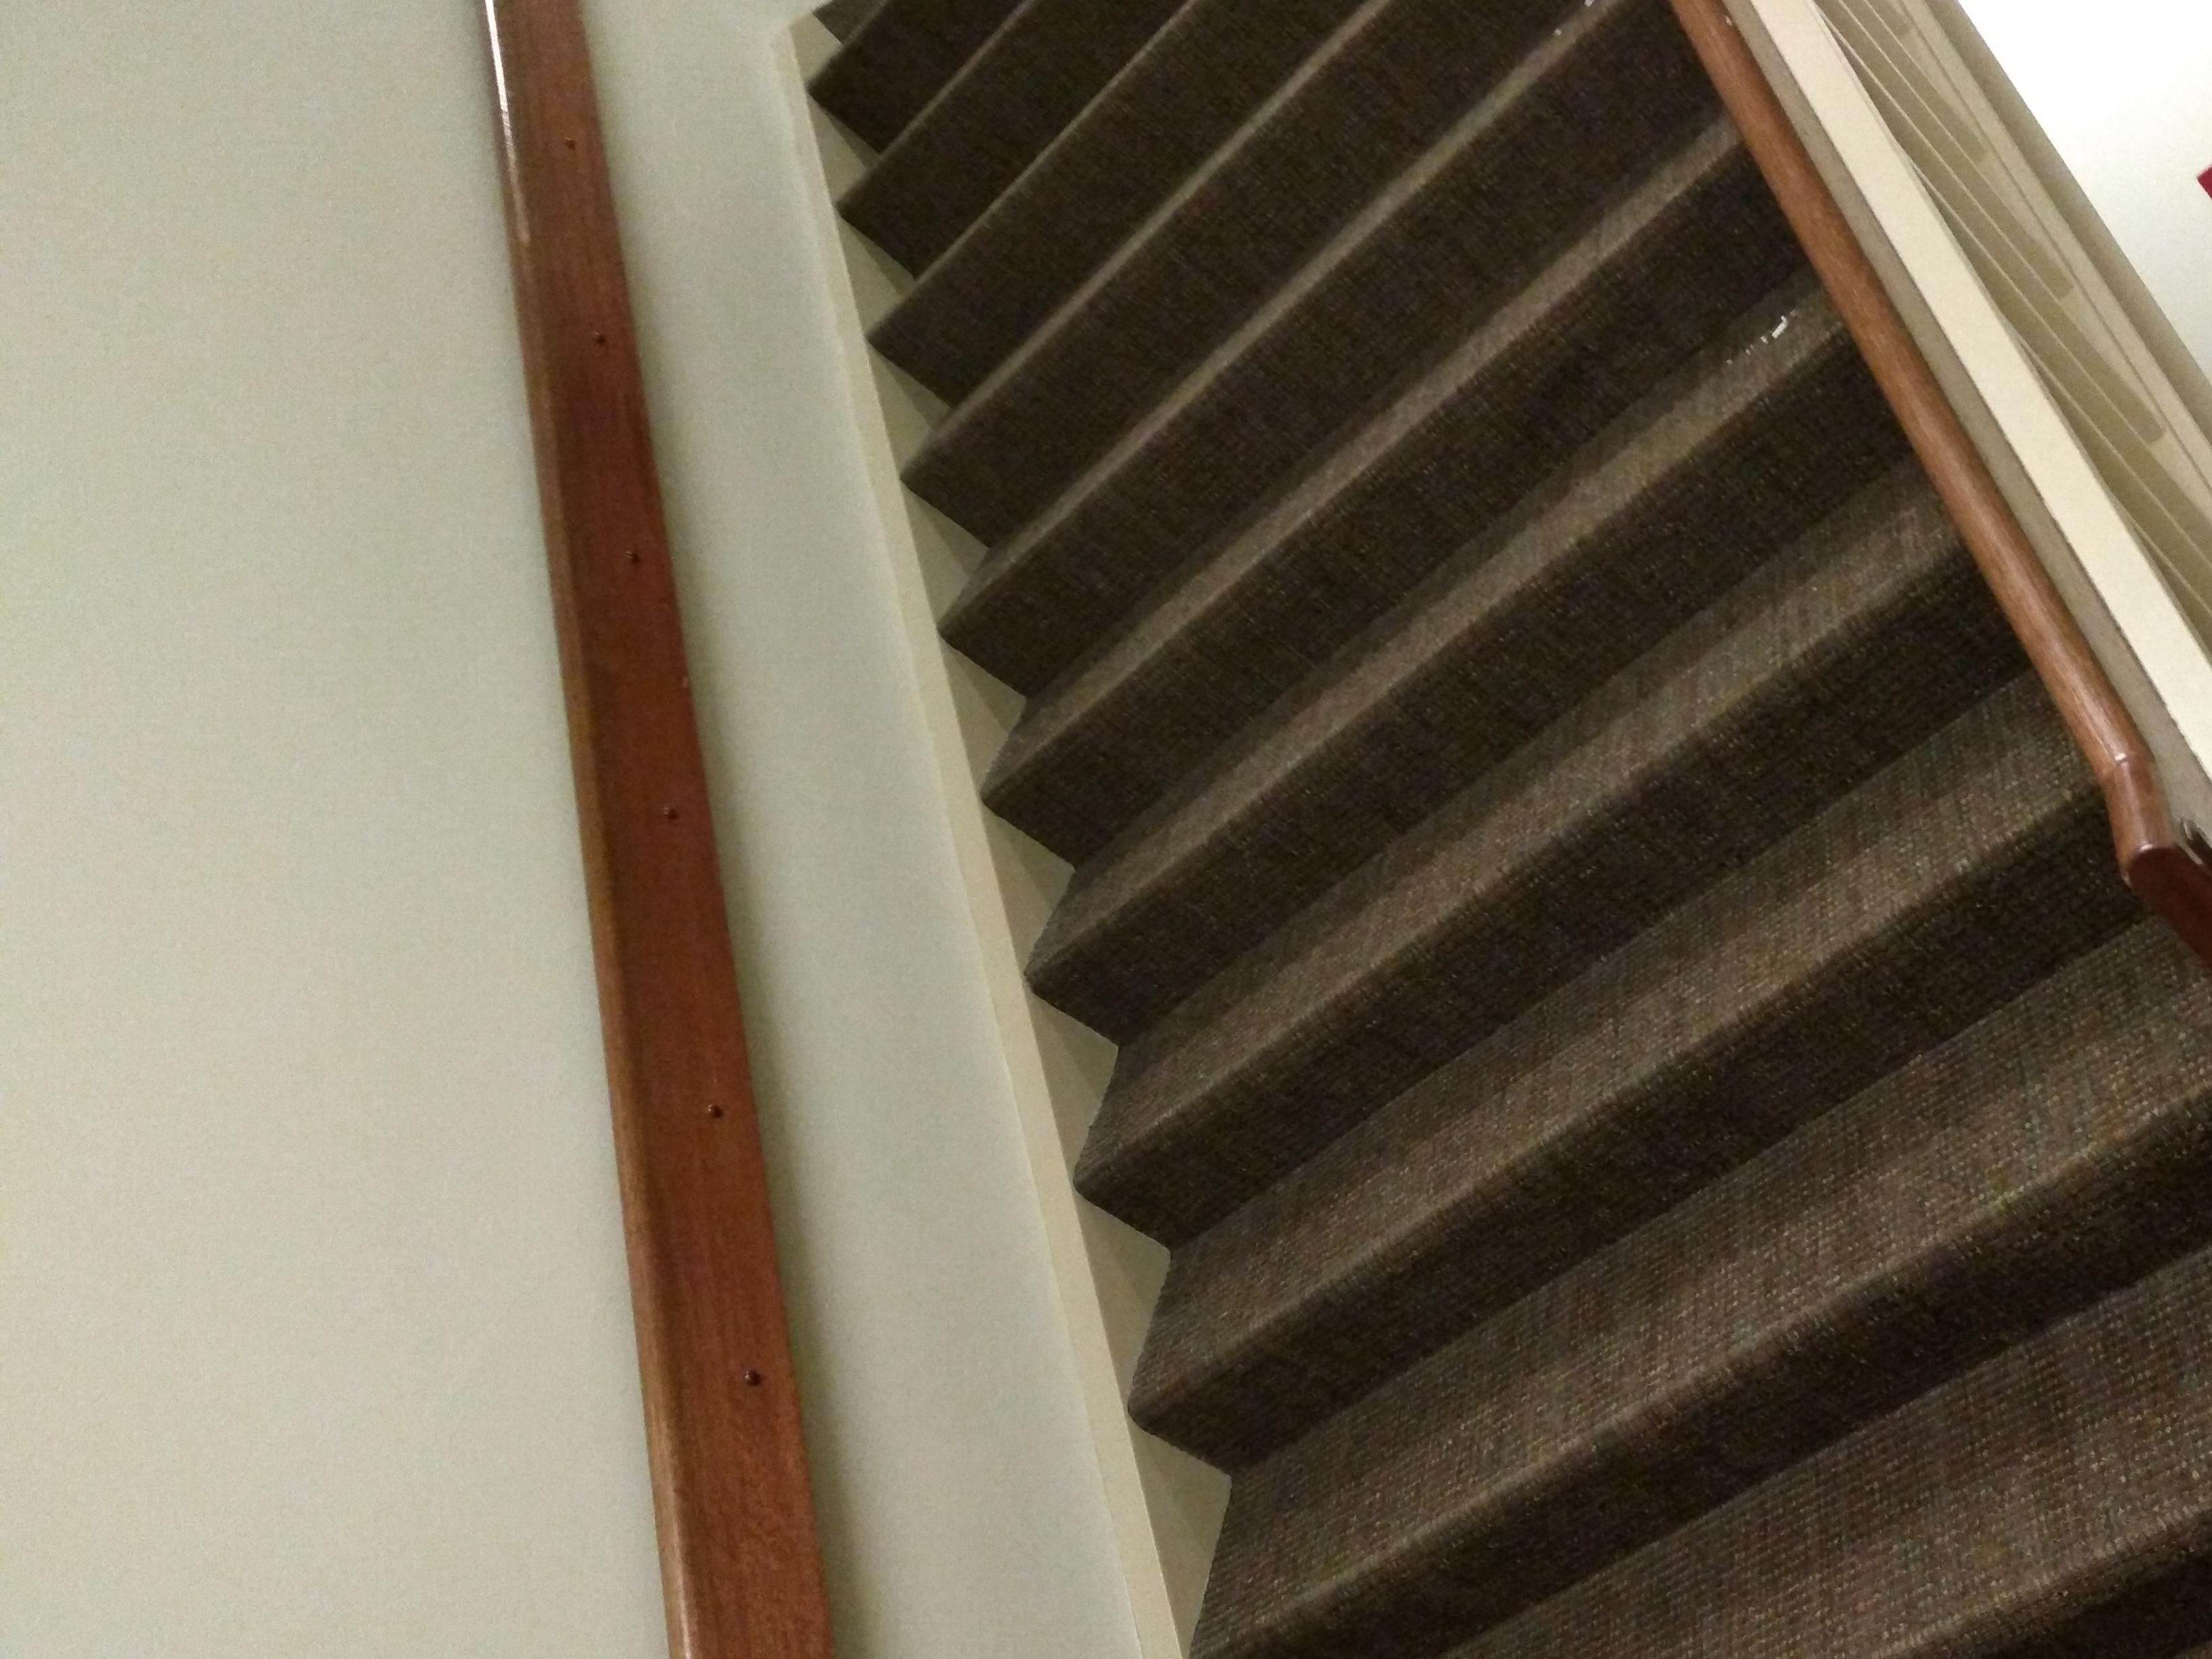stairs_up: (763, 3, 2212, 1650)
